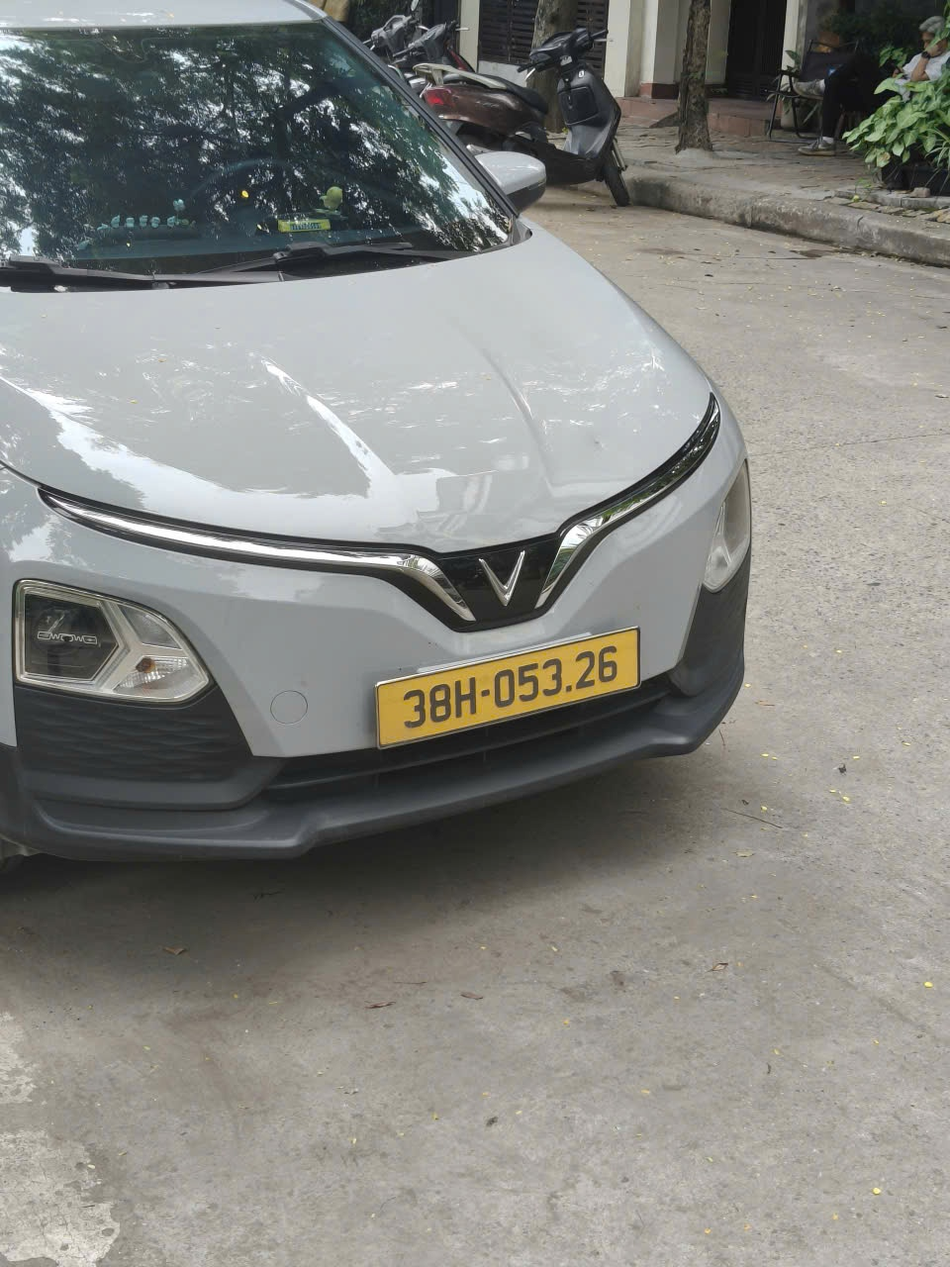plate: (256, 246, 422, 279)
